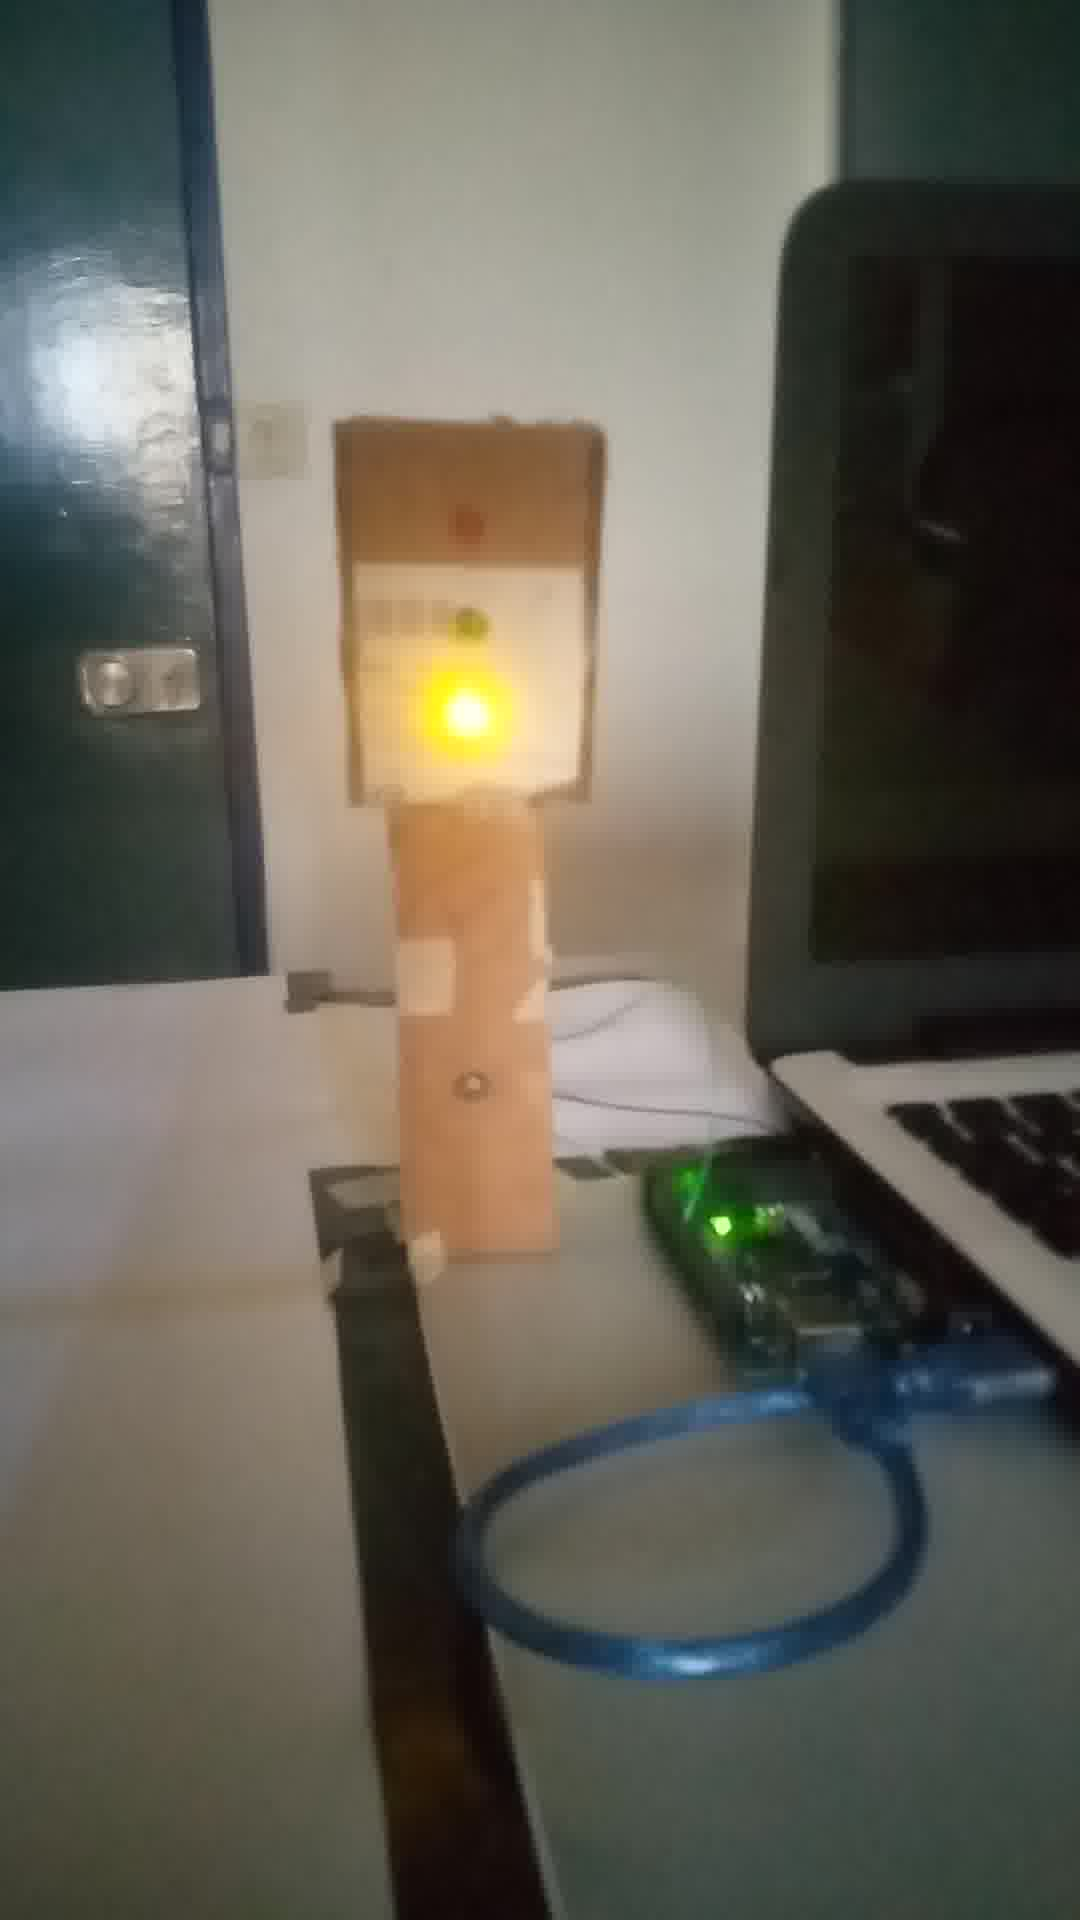green: (334, 423, 601, 800)
